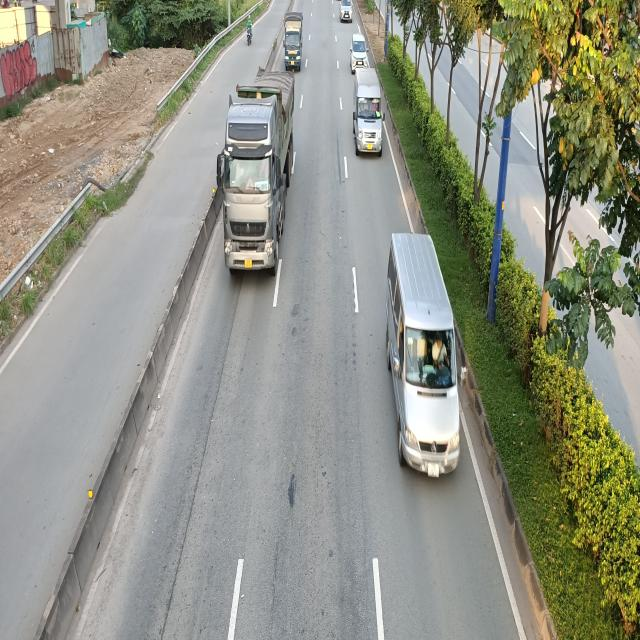car: (350, 34, 369, 72), (341, 0, 353, 22)
container: (213, 70, 294, 276)
truck: (282, 10, 303, 70)
van: (388, 228, 468, 474), (352, 66, 384, 155)
